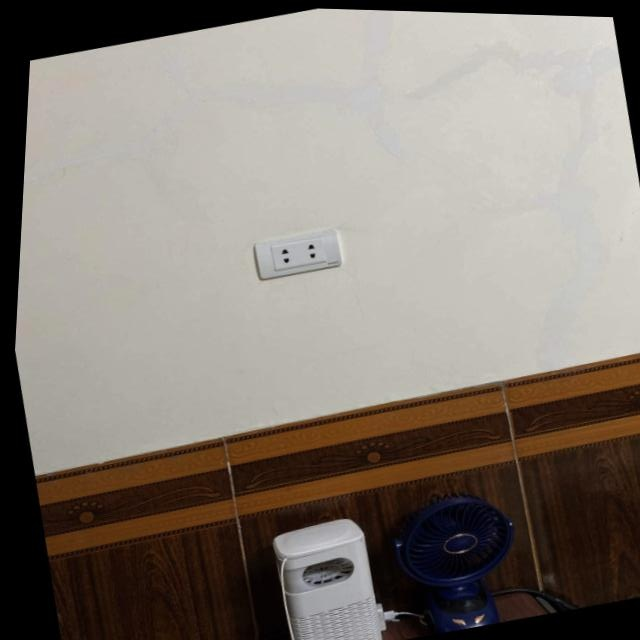outlet: (250, 226, 345, 285)
